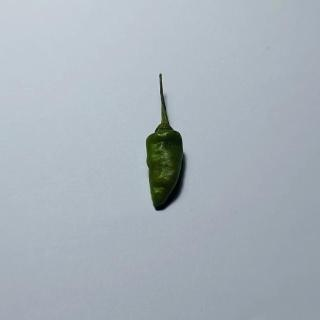Cabai Hijau: (142, 71, 188, 213)
